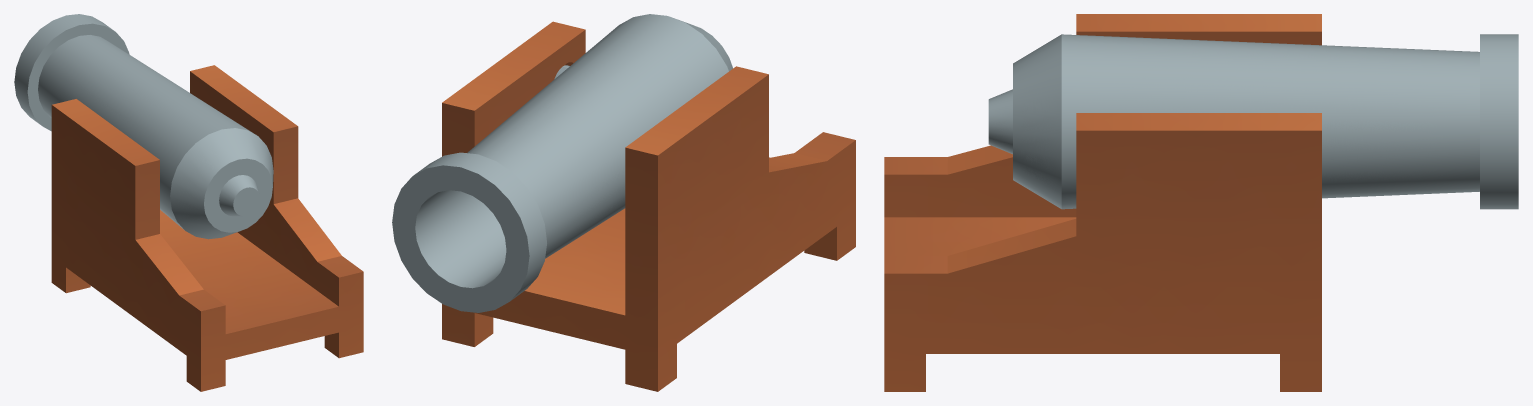
The model's file is cannonLarge.glb.
The picture shows the model from 3 angles, left to right: view 1: azimuth 30°, elevation 25°; view 2: azimuth 150°, elevation 25°; view 3: azimuth 270°, elevation 25°; orthographic projection. The views are drawn at different scales.
Parts seen in each view (by area): view 1: cannonLarge, barrelLarge; view 2: cannonLarge, barrelLarge; view 3: cannonLarge, barrelLarge.
Part boxes in pixels (x1,y1,x2,y2): cannonLarge: [51, 65, 363, 391]; barrelLarge: [14, 14, 273, 239]; cannonLarge: [442, 21, 855, 391]; barrelLarge: [392, 14, 732, 312]; cannonLarge: [884, 14, 1321, 391]; barrelLarge: [988, 34, 1518, 209].
Bounding box in the file's own units: 0.4345 × 0.5063 × 0.9994.
Materials: 1 (1 with a texture image).
